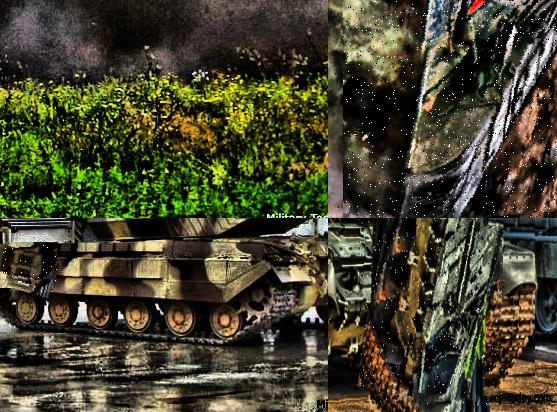tanks: (344, 1, 557, 219), (1, 219, 329, 346), (362, 219, 505, 406), (1, 247, 58, 283)
